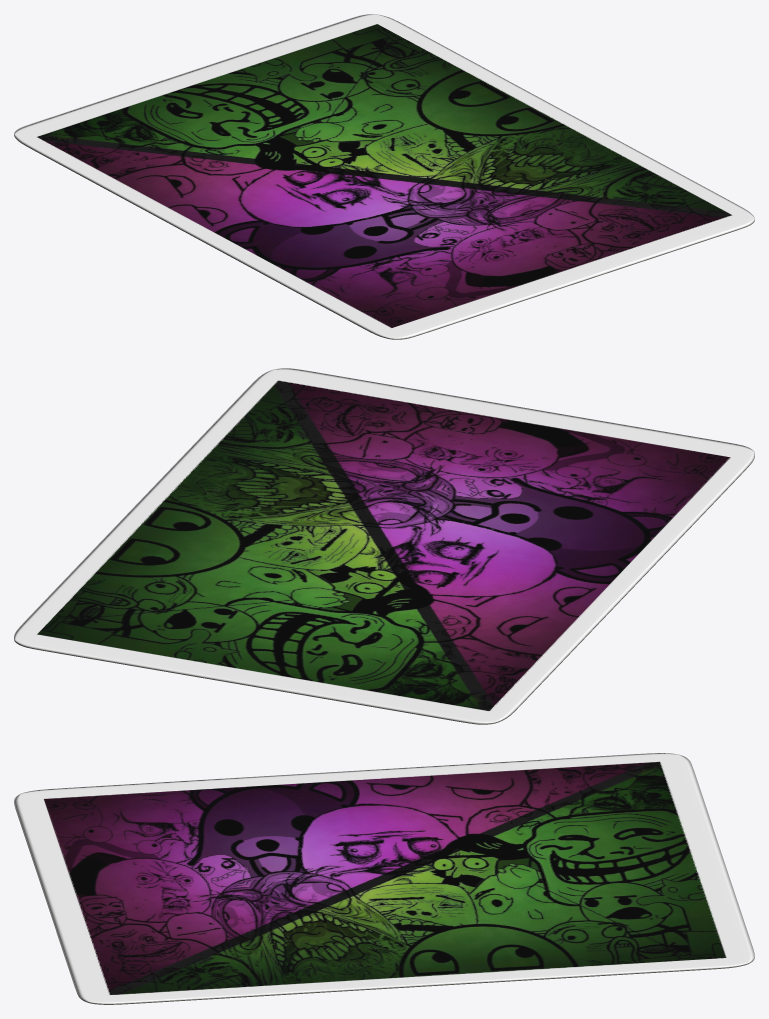
The model's file is animation1.fbx.
3 views of the same model, one above another, from view 1: azimuth 30°, elevation 25°; view 2: azimuth 150°, elevation 25°; view 3: azimuth 270°, elevation 25° (orthographic). The views are drawn at different scales.
Visible parts, largest first — view 1: Plane; view 2: Plane; view 3: Plane.
Part boxes in pixels (bbox=[...]): Plane: bbox=[14, 14, 754, 339]; Plane: bbox=[14, 368, 754, 724]; Plane: bbox=[14, 753, 754, 1004].
Size of the model in its own units: 7.75 by 0.02 by 9.67.
